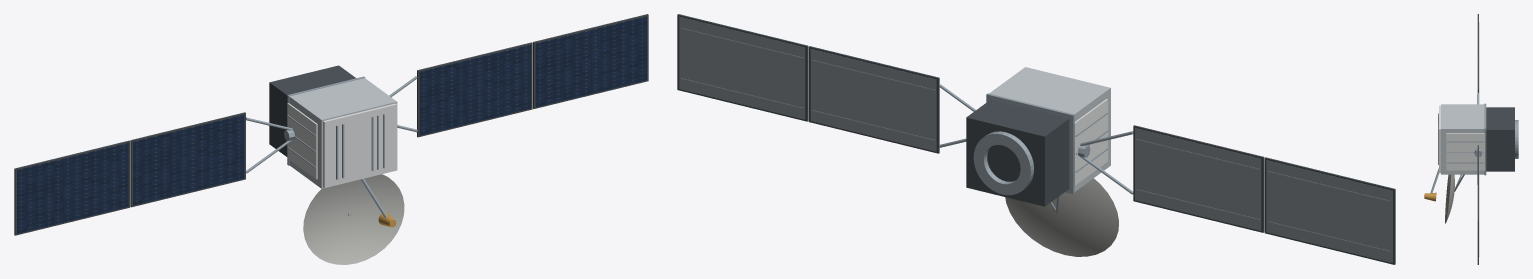
File: star-2-galaxy-cband.glb
The picture shows the model from 3 angles, left to right: view 1: azimuth 30°, elevation 25°; view 2: azimuth 150°, elevation 25°; view 3: azimuth 270°, elevation 25°; orthographic projection. The views are drawn at different scales.
Parts seen in each view (by area): view 1: Solar cell panel (×4), Communications reflector, Earth-facing deck, Solar panel frame (×4), Payload module, Service module, Radiator face; view 2: Rear array substrate (×4), Service module, Communications reflector, Solar panel frame (×4), Payload module, Launch adapter ring, Radiator face, Module interface; view 3: Service module, Payload module, Radiator face, Solar panel frame (×4), Communications reflector, Module interface, Launch adapter ring, Radiator seam (×2), Earth-facing deck, Feed horn.
Part boxes in pixels (box(x1,y1,x2,y2)): Solar cell panel (×4): box(17, 16, 646, 233); Communications reflector: box(303, 174, 404, 264); Earth-facing deck: box(323, 103, 396, 187); Solar panel frame (×4): box(14, 14, 648, 235); Payload module: box(289, 78, 397, 188); Service module: box(269, 65, 355, 156); Radiator face: box(287, 103, 317, 179); Rear array substrate (×4): box(679, 16, 1392, 262); Service module: box(966, 99, 1069, 206); Communications reflector: box(1005, 178, 1118, 256); Solar panel frame (×4): box(677, 14, 1395, 264); Payload module: box(989, 67, 1110, 191); Launch adapter ring: box(973, 131, 1033, 195); Radiator face: box(1074, 99, 1107, 185); Module interface: box(986, 93, 1074, 194); Service module: box(1486, 107, 1514, 171); Payload module: box(1441, 104, 1484, 174); Radiator face: box(1446, 133, 1484, 170); Solar panel frame (×4): box(1477, 14, 1478, 264); Communications reflector: box(1445, 174, 1454, 223); Module interface: box(1484, 103, 1486, 175); Launch adapter ring: box(1515, 120, 1518, 158); Radiator seam (×2): box(1447, 141, 1484, 163); Earth-facing deck: box(1439, 105, 1440, 173); Feed horn: box(1424, 192, 1436, 201).
Size of the model in its own units: 12.58 by 2.94 by 2.44.
8 materials, 1 textured.
